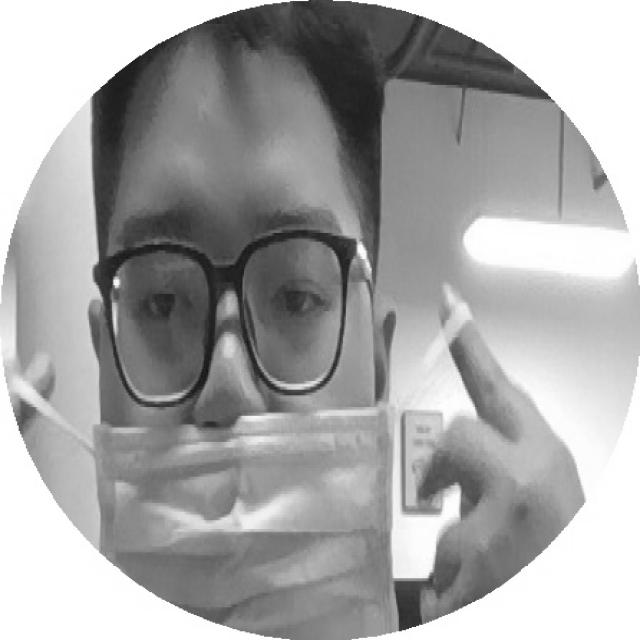fake: (67, 405, 444, 640)
real: (88, 230, 360, 377)
